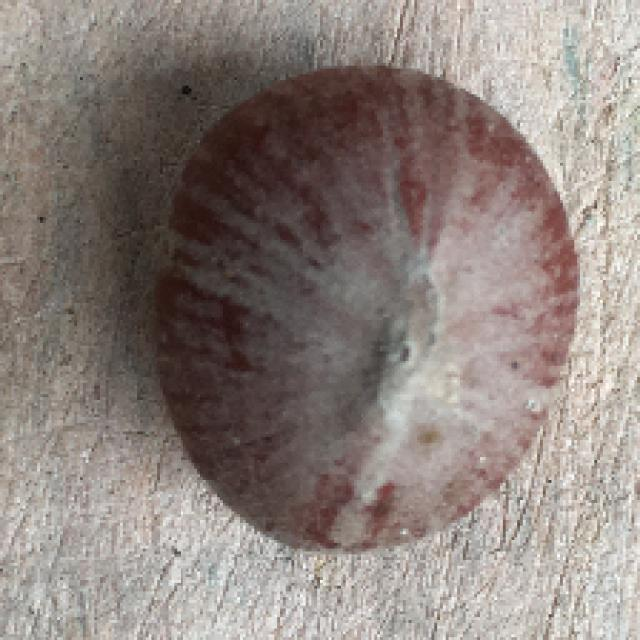qualityHazelnut: (154, 66, 579, 547)
